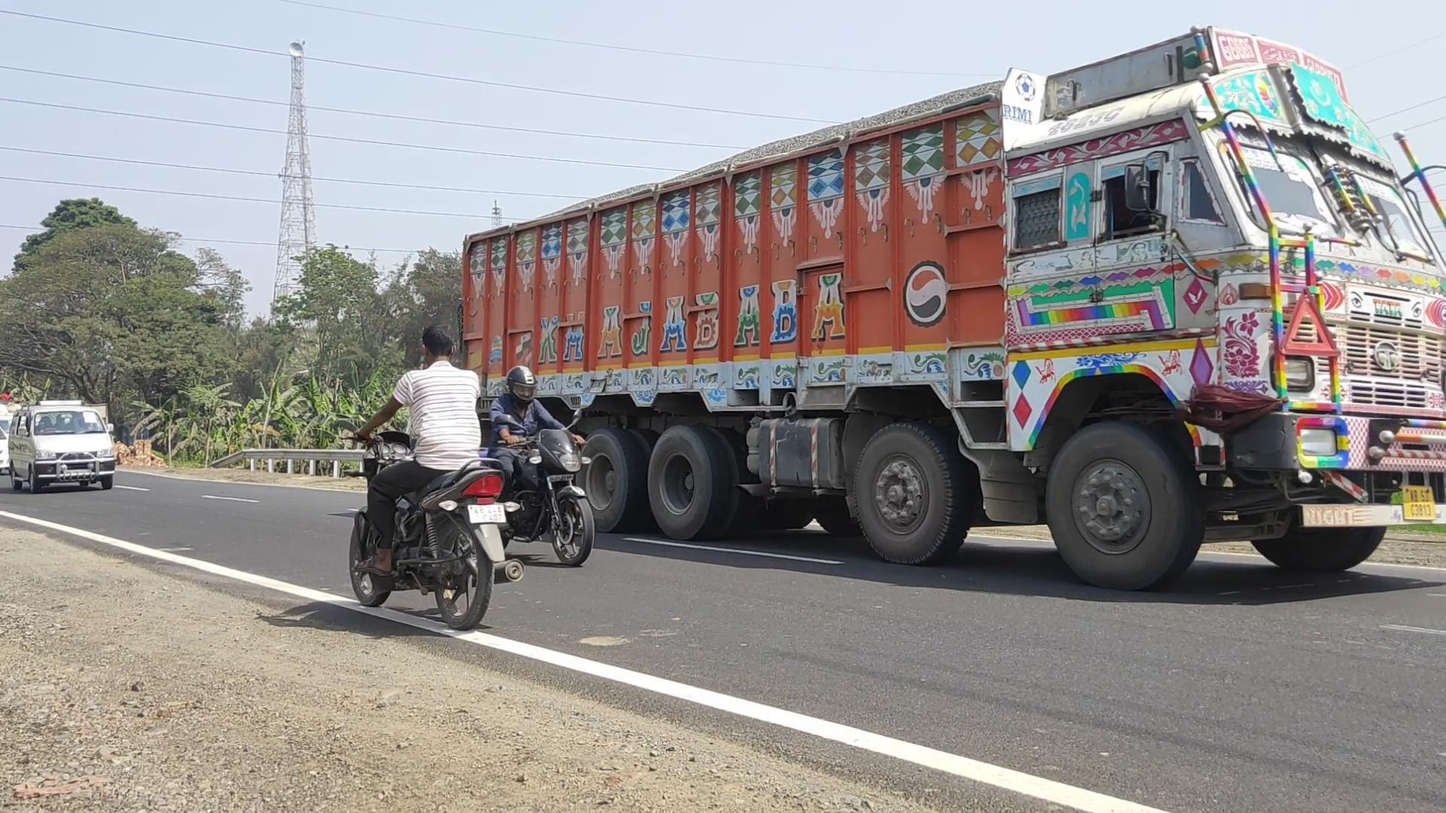bike: (349, 324, 523, 629), (450, 365, 594, 566)
truck: (460, 25, 1446, 595)
van: (8, 400, 117, 493)
